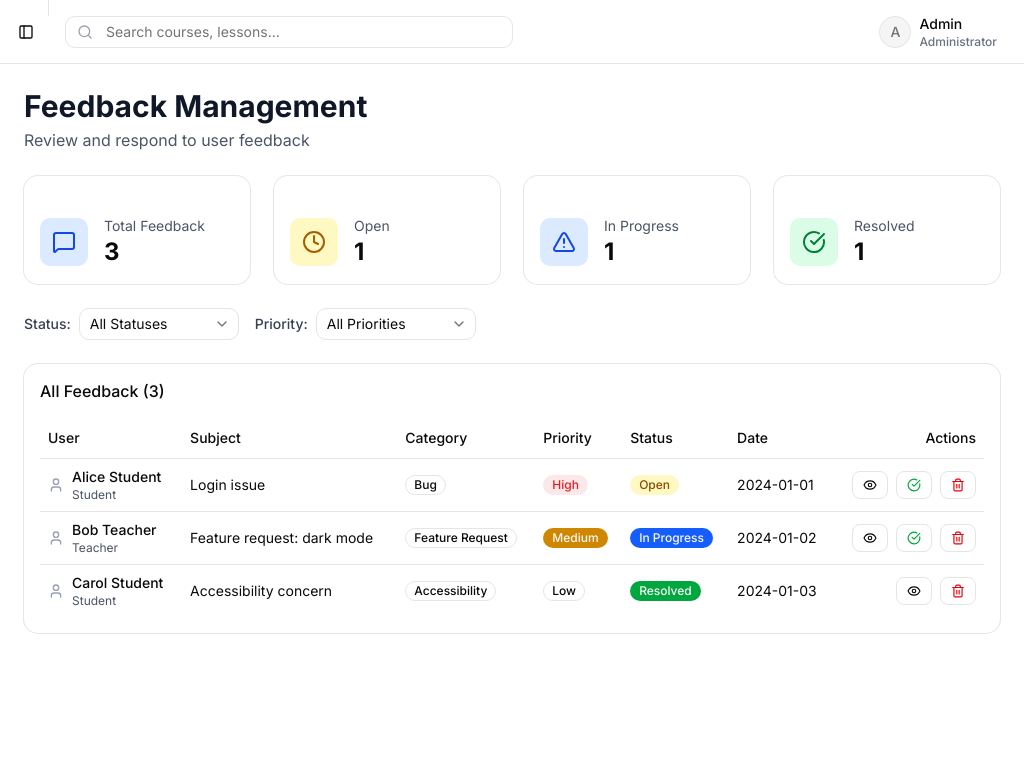
it: Admin Feedback Page - Priority Filter (5.3) › filters to show only high priority feedback (P1.4.3)
expect the text "Login issue" is shown: met, box [190, 476, 265, 492]
Click the dropdown named "priority". click: (396, 324)
box: [316, 308, 476, 340]
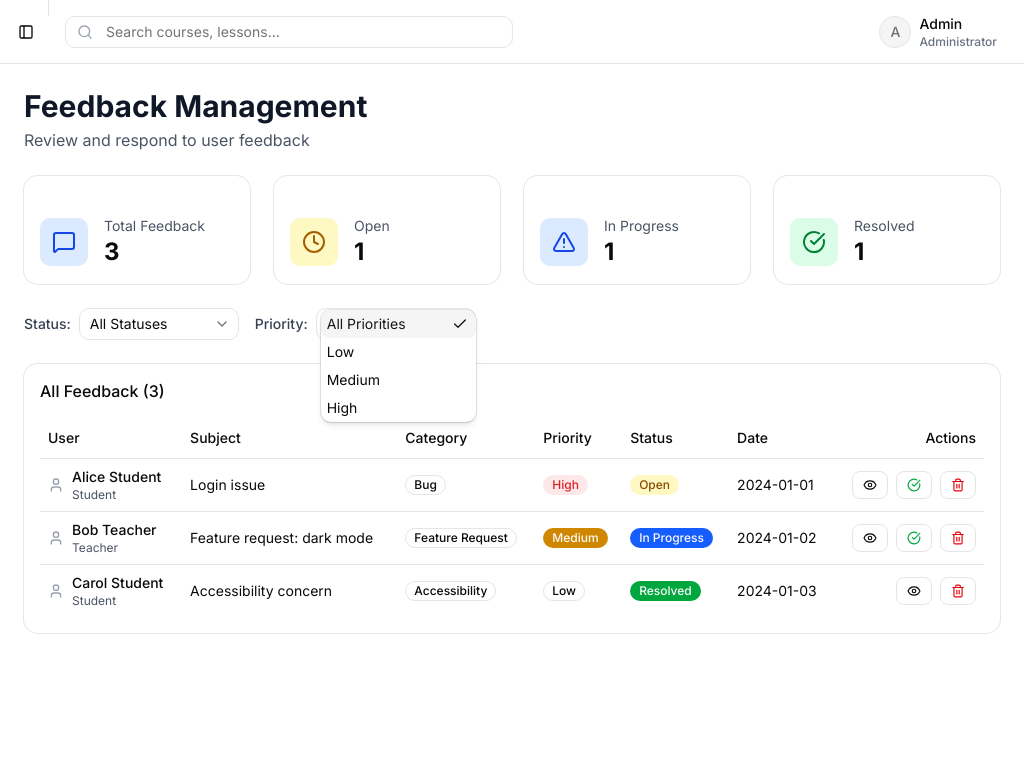
Click the option "High". click: (342, 408)
box: [327, 399, 357, 416]
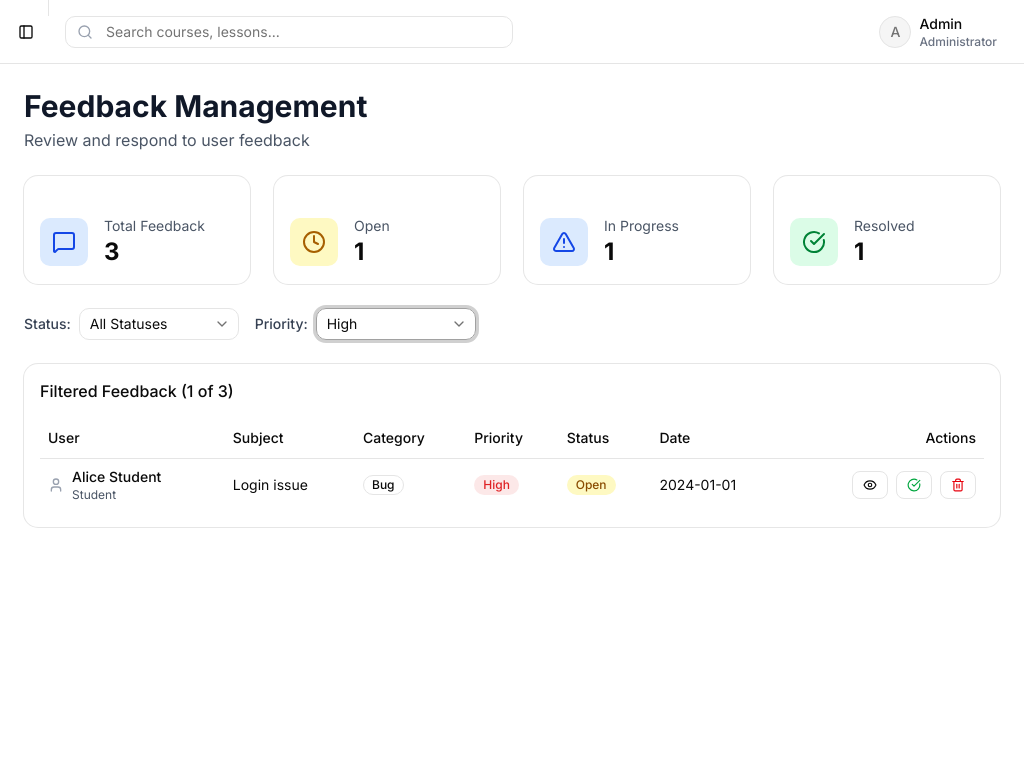
expect the text "Login issue" is shown: met, box [233, 476, 308, 492]
expect the text "Feature request: dark mode" is gone: met
expect the text "Accessibility concern" is gone: met
